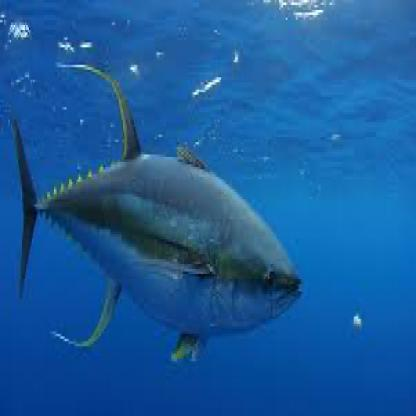Scombridae -Tunas-: (3, 56, 303, 375)
